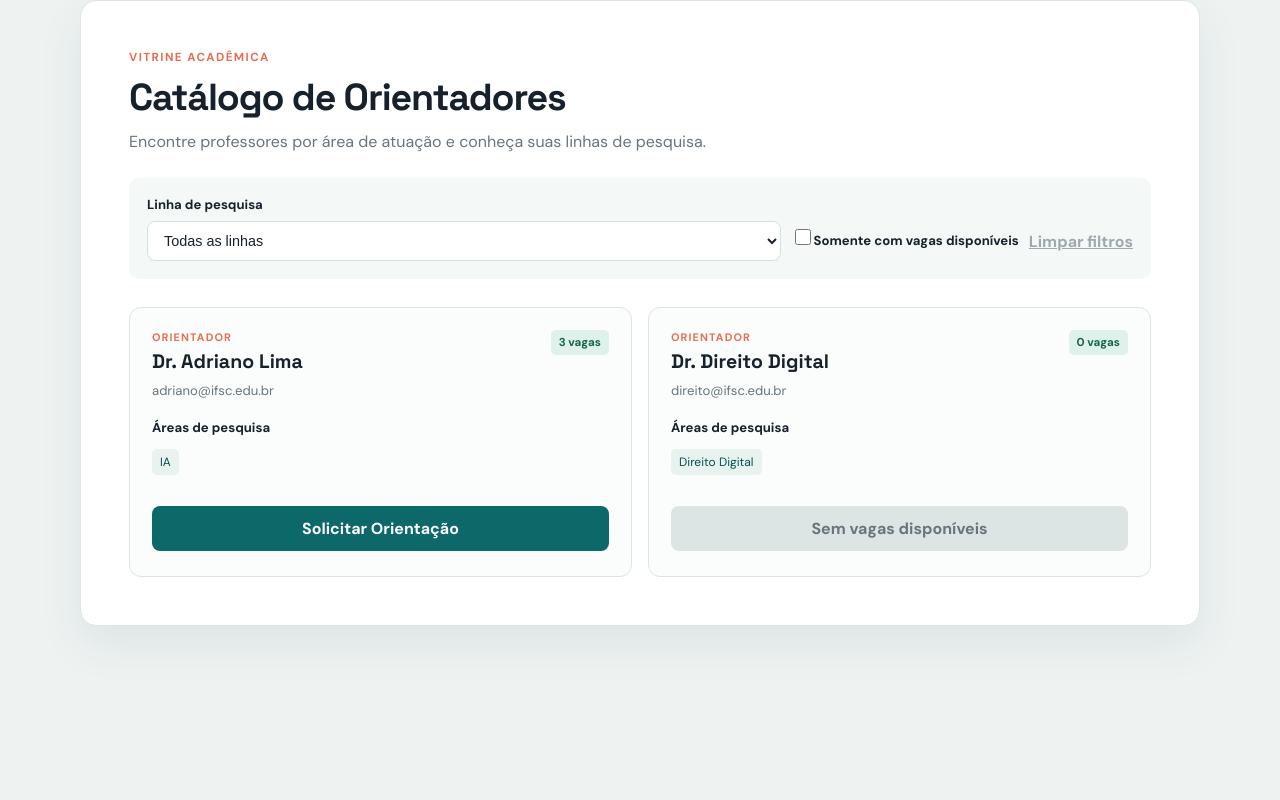
it: OrientadorList › deve exibir estado vazio ao selecionar uma linha de pesquisa válida sem correspondência atual
Select "Direito Digital" in the dropdown labelled "Linha de pesquisa". click: (464, 241)
box: left=147, top=221, right=781, bottom=261
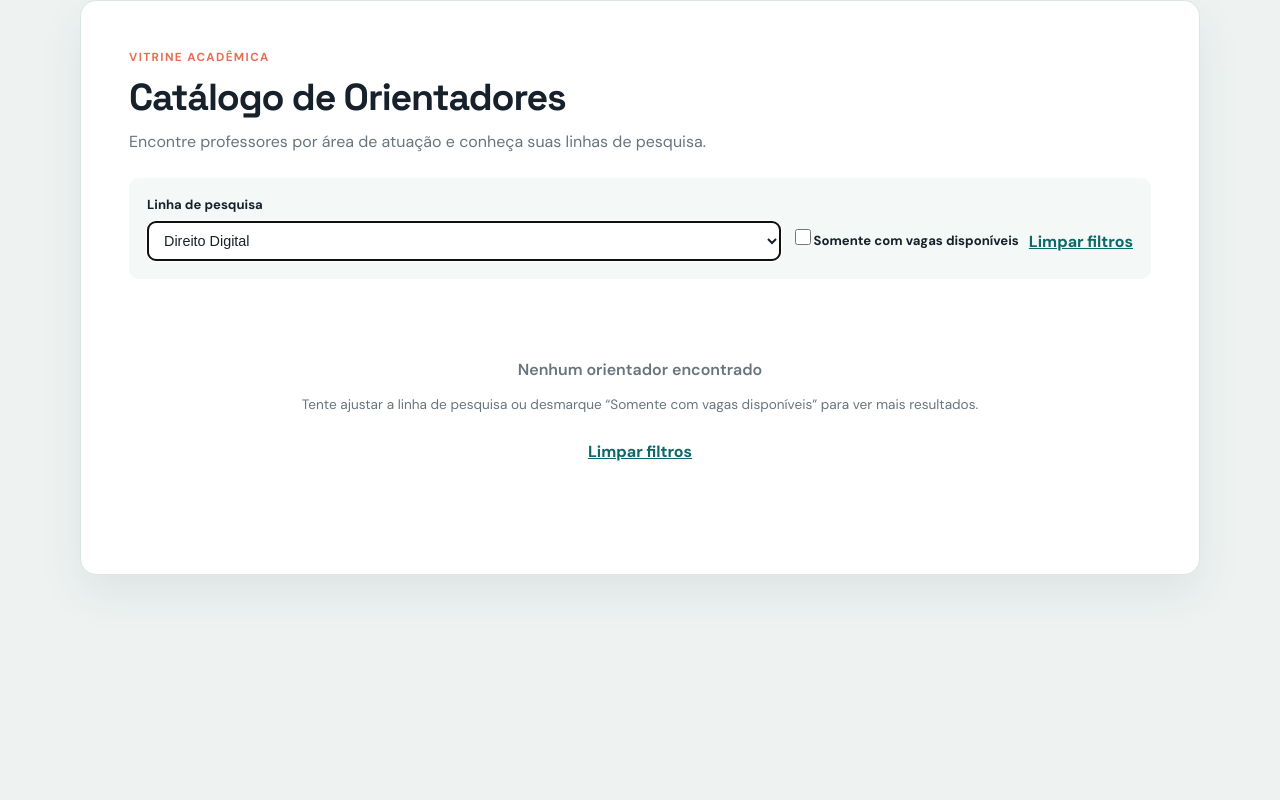
Check: the text "Nenhum orientador encontrado" is shown, box left=518, top=359, right=762, bottom=380
